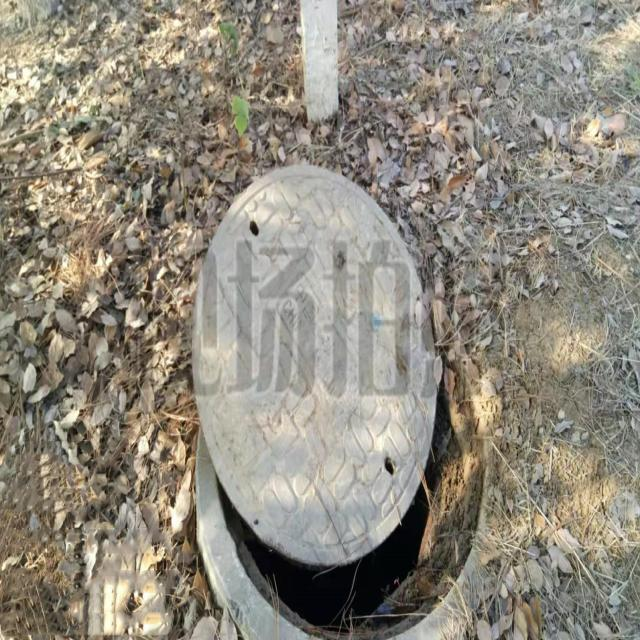Lose: (193, 162, 503, 639)
